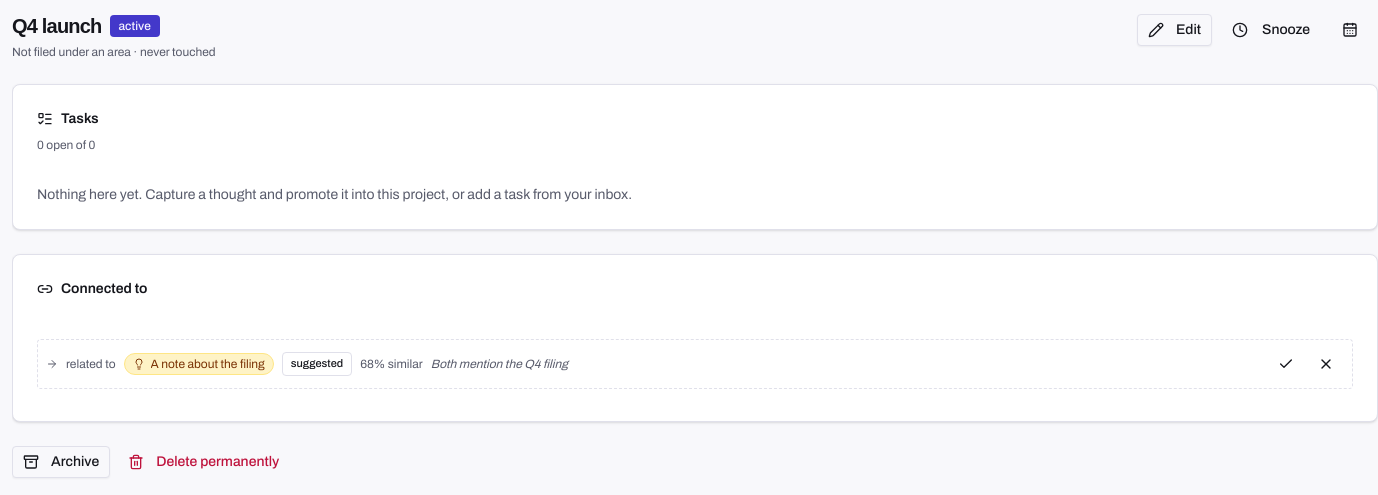
Scenario: ProjectDetail › removes an accepted connection immediately
Expected: the text "A note about the filing" is shown, [150,356,265,372]
Click the button named "accept the connection to A note about the filing" at (1286, 364), box [1268,348,1304,380]
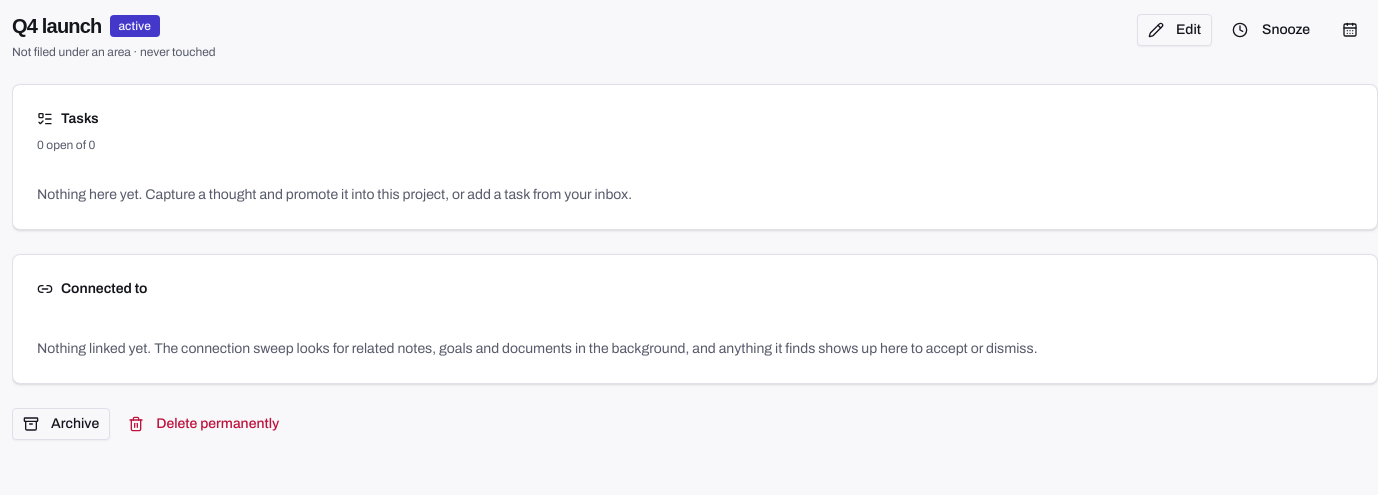
Now the text "Nothing linked yet." is shown, box [37,341,1038,356]
